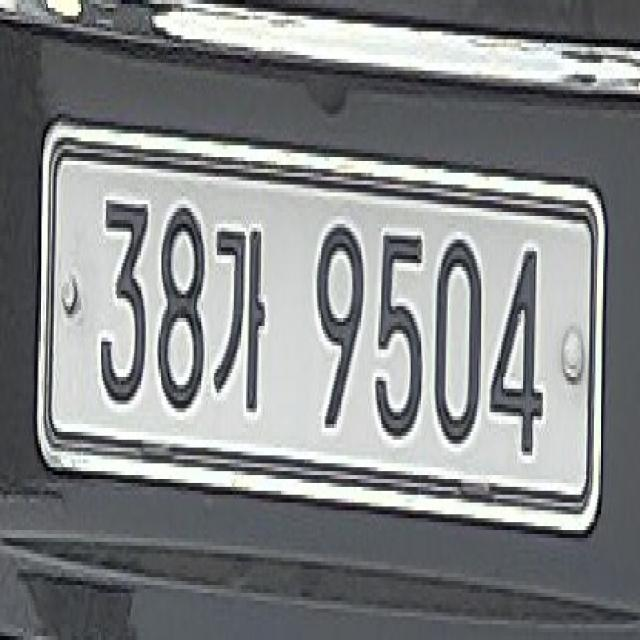0: (432, 228, 482, 448)
3: (98, 188, 151, 412)
4: (486, 240, 545, 460)
5: (372, 216, 430, 440)
8: (152, 204, 206, 412)
9: (316, 220, 364, 428)
ga: (214, 224, 266, 416)
license_plate: (42, 134, 600, 526)
